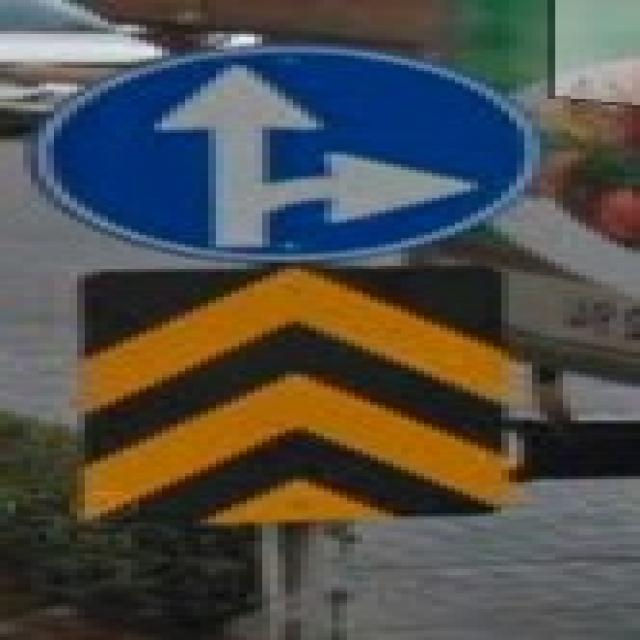Straight or Right: (44, 48, 499, 258)
